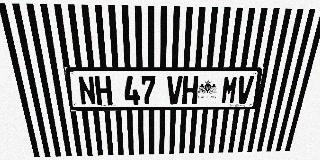4: (123, 76, 140, 105)
7: (140, 76, 156, 105)
H: (94, 76, 113, 105), (182, 76, 199, 104)
M: (221, 76, 239, 104)
N: (77, 76, 97, 105)
V: (235, 76, 254, 104), (167, 76, 183, 104)
